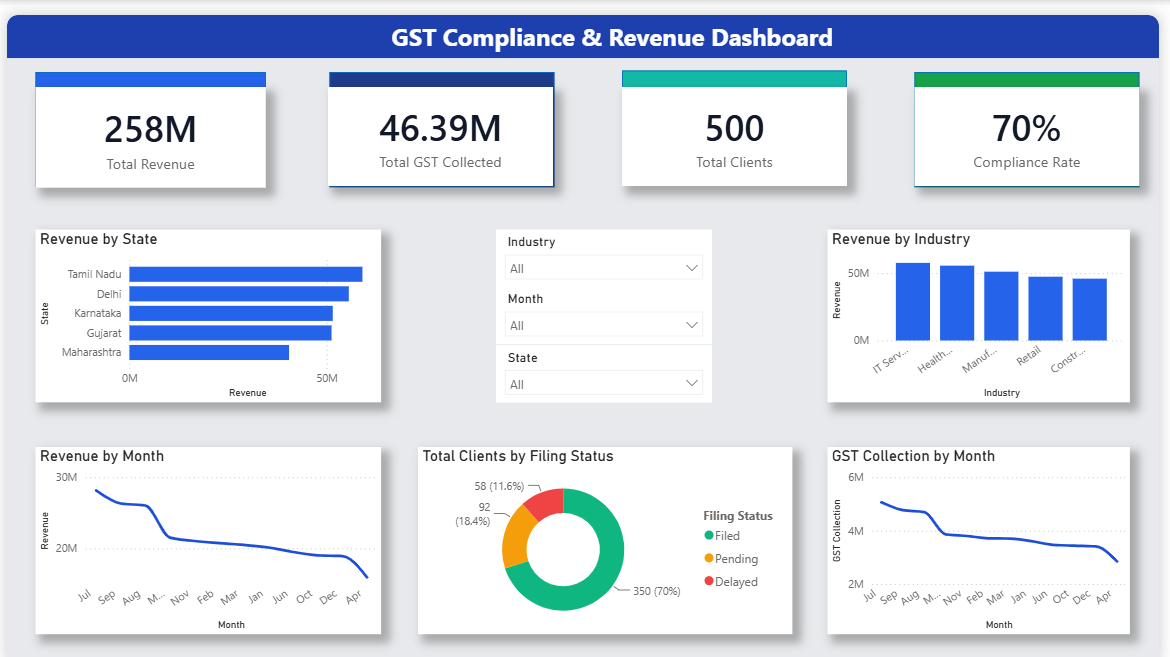

The dashboard page shown, as its layout file describes it:
{"tool":"powerbi","page":{"name":"Page 1","canvas":[1280,720],"ordinal":0},"visuals":[{"type":"shape","box":[1008.8,64,249.9,128],"z":0},{"type":"shape","box":[682.7,62.5,249.9,128],"z":1000},{"type":"shape","box":[358.1,64,249.9,128],"z":2000},{"type":"shape","box":[32,64,256,128],"z":3000},{"type":"cardVisual","fields":{"Data":["Sum(GST_Compliance_Dataset_500_Rows.Revenue)"]},"box":[32,80,256,112],"z":4000},{"type":"cardVisual","fields":{"Data":["Sum(GST_Compliance_Dataset_500_Rows.GST_Paid)"]},"box":[357.3,80,250,110],"z":5000},{"type":"cardVisual","fields":{"Data":["Count(GST_Compliance_Dataset_500_Rows.Client_Name)"]},"box":[682.7,80,250,110],"z":6000},{"type":"lineChart","fields":{"Category":["GST_Compliance_Dataset_500_Rows.Month"],"Y":["Sum(GST_Compliance_Dataset_500_Rows.Revenue)"]},"box":[32,480,384,208],"z":7000},{"type":"lineChart","fields":{"Category":["GST_Compliance_Dataset_500_Rows.Month"],"Y":["Sum(GST_Compliance_Dataset_500_Rows.GST_Paid)"]},"box":[912,480,336,208],"z":8000},{"type":"slicer","fields":{"Values":["GST_Compliance_Dataset_500_Rows.Industry"]},"box":[544,239,240,64],"z":9000,"group":"g1"},{"type":"clusteredColumnChart","fields":{"Category":["GST_Compliance_Dataset_500_Rows.Industry"],"Y":["Sum(GST_Compliance_Dataset_500_Rows.Revenue)"]},"box":[912,239,336,192],"z":9000},{"type":"clusteredBarChart","fields":{"Category":["GST_Compliance_Dataset_500_Rows.State"],"Y":["Sum(GST_Compliance_Dataset_500_Rows.Revenue)"]},"box":[32,239,384,192],"z":10000},{"type":"slicer","fields":{"Values":["GST_Compliance_Dataset_500_Rows.State"]},"box":[544,367,240,64],"z":10000,"group":"g1"},{"type":"slicer","fields":{"Values":["GST_Compliance_Dataset_500_Rows.Month"]},"box":[544,303,240,64],"z":11000,"group":"g1"},{"type":"donutChart","fields":{"Category":["GST_Compliance_Dataset_500_Rows.Filing_Status"],"Y":["CountNonNull(GST_Compliance_Dataset_500_Rows.Client_Name)"]},"box":[456,480,416,208],"z":11000},{"type":"cardVisual","fields":{"Data":["GST_Compliance_Dataset_500_Rows.Compliance Rate"]},"box":[1008,80,250,110],"z":12000},{"type":"shape","box":[0,0,1280,48],"z":13000},{"type":"textbox","box":[416,0,512,64],"z":14000},{"type":"group","id":"g1","title":"Group 1","box":[544,239,240,192],"z":15000}]}

Visuals, with their boxes in screenshot pixels (x1, y1, x2, y2), scaled from the page's 1280x720 canvas onto the 1170x657 screenshot:
shape: 922, 58, 1151, 175
shape: 624, 57, 852, 174
shape: 327, 58, 556, 175
shape: 29, 58, 263, 175
cardVisual - Sum(GST_Compliance_Dataset_500_Rows.Revenue): 29, 73, 263, 175
cardVisual - Sum(GST_Compliance_Dataset_500_Rows.GST_Paid): 327, 73, 555, 173
cardVisual - Count(GST_Compliance_Dataset_500_Rows.Client_Name): 624, 73, 853, 173
lineChart - GST_Compliance_Dataset_500_Rows.Month x Sum(GST_Compliance_Dataset_500_Rows.Revenue): 29, 438, 380, 628
lineChart - GST_Compliance_Dataset_500_Rows.Month x Sum(GST_Compliance_Dataset_500_Rows.GST_Paid): 834, 438, 1141, 628
slicer - GST_Compliance_Dataset_500_Rows.Industry: 497, 218, 717, 276
clusteredColumnChart - GST_Compliance_Dataset_500_Rows.Industry x Sum(GST_Compliance_Dataset_500_Rows.Revenue): 834, 218, 1141, 393
clusteredBarChart - GST_Compliance_Dataset_500_Rows.State x Sum(GST_Compliance_Dataset_500_Rows.Revenue): 29, 218, 380, 393
slicer - GST_Compliance_Dataset_500_Rows.State: 497, 335, 717, 393
slicer - GST_Compliance_Dataset_500_Rows.Month: 497, 276, 717, 335
donutChart - GST_Compliance_Dataset_500_Rows.Filing_Status x CountNonNull(GST_Compliance_Dataset_500_Rows.Client_Name): 417, 438, 797, 628
cardVisual - GST_Compliance_Dataset_500_Rows.Compliance Rate: 921, 73, 1150, 173
shape: 0, 0, 1169, 44
textbox: 380, 0, 848, 58
"Group 1" group: 497, 218, 717, 393
